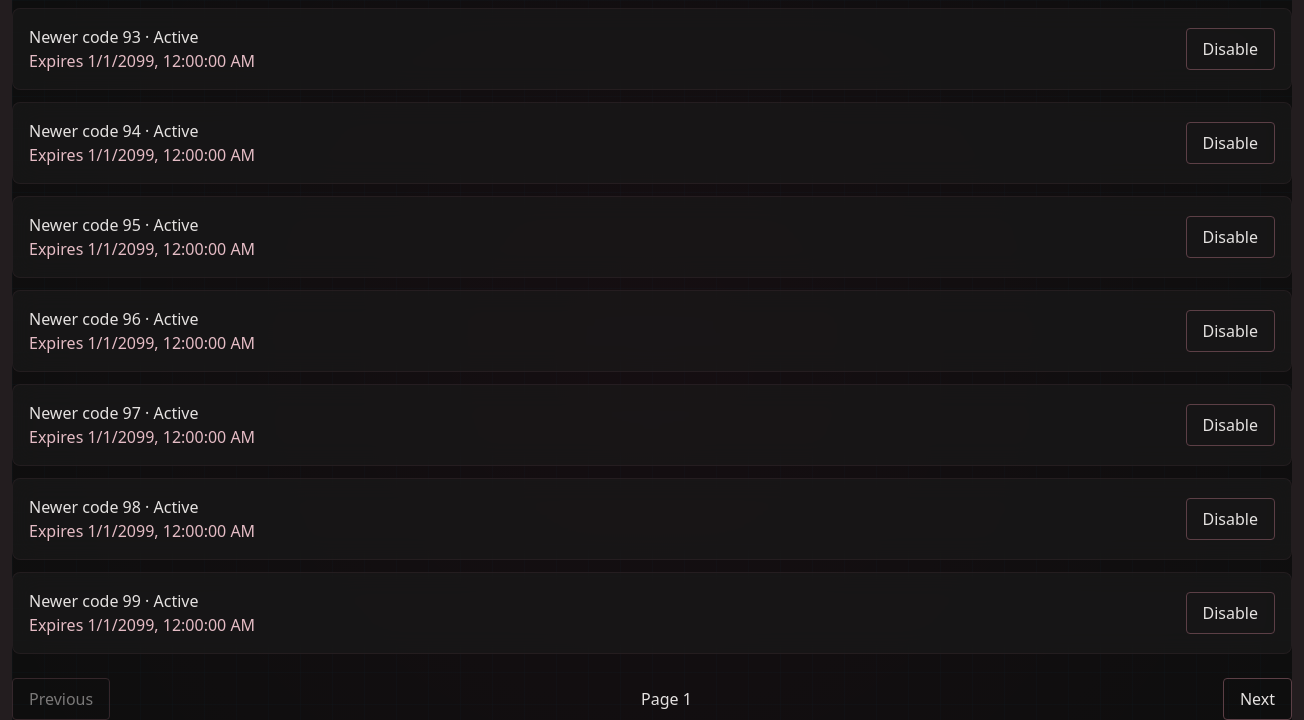
admin signup code pagination › preserves an issued code after creation on a later page (reload fails: true)
(page scrolled)
Click the button "Next" at x=1257, y=699, box [1223,678,1292,719]
(page scrolled)
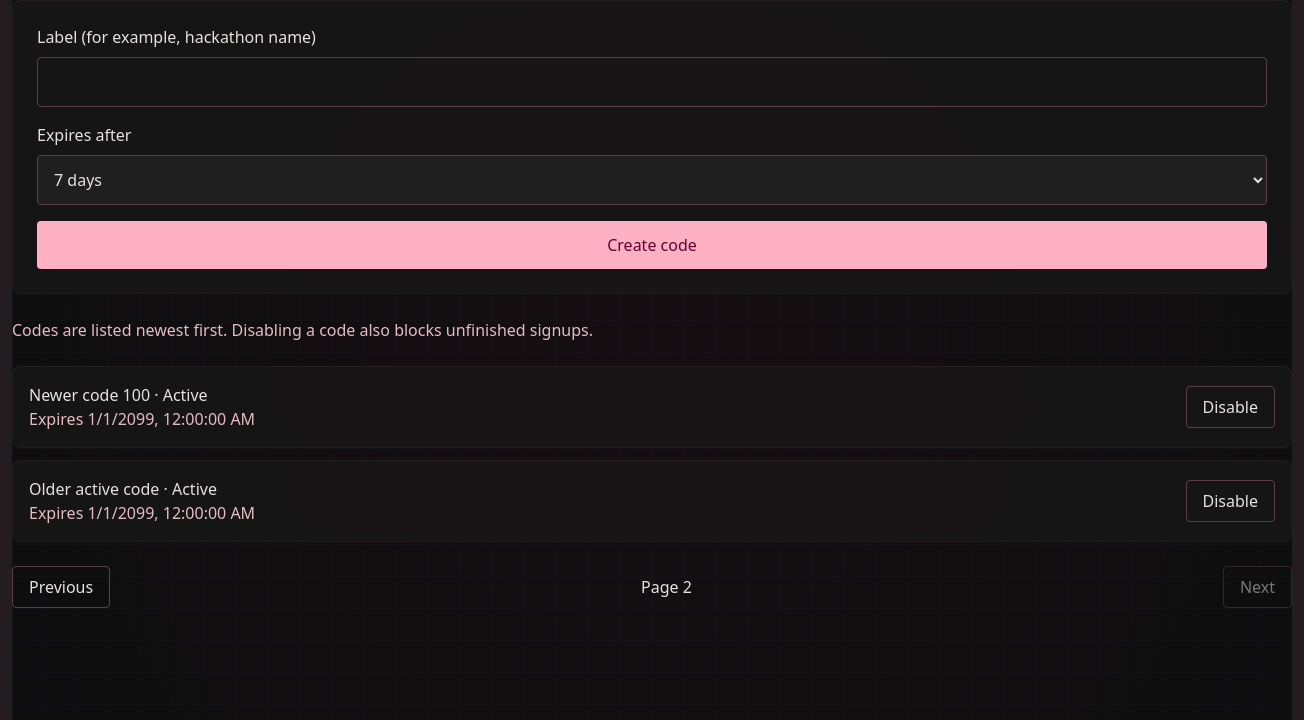
Result: the text "Page 2" is shown at [641,575,692,599]
Type "New event" into the field at x=652, y=82, box [37,57,1267,107]
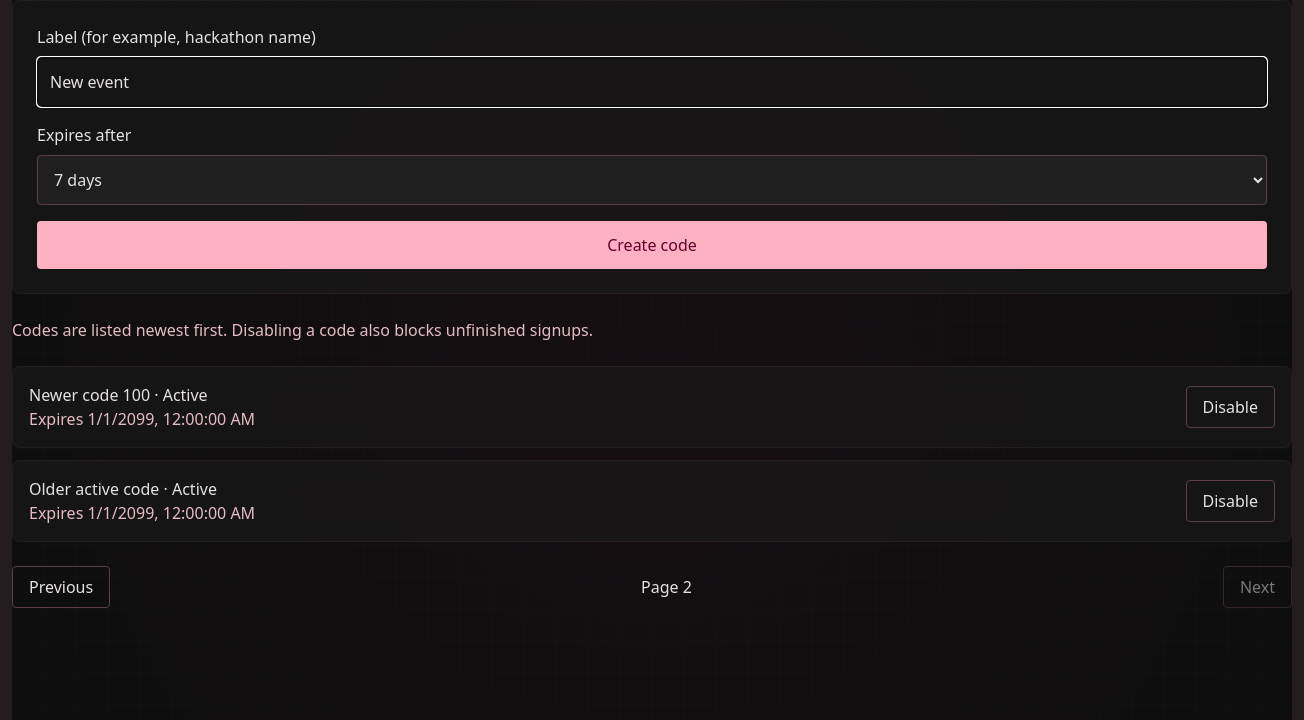
Click the button "Create code" at x=652, y=245, box [37,221,1267,269]
(page scrolled)
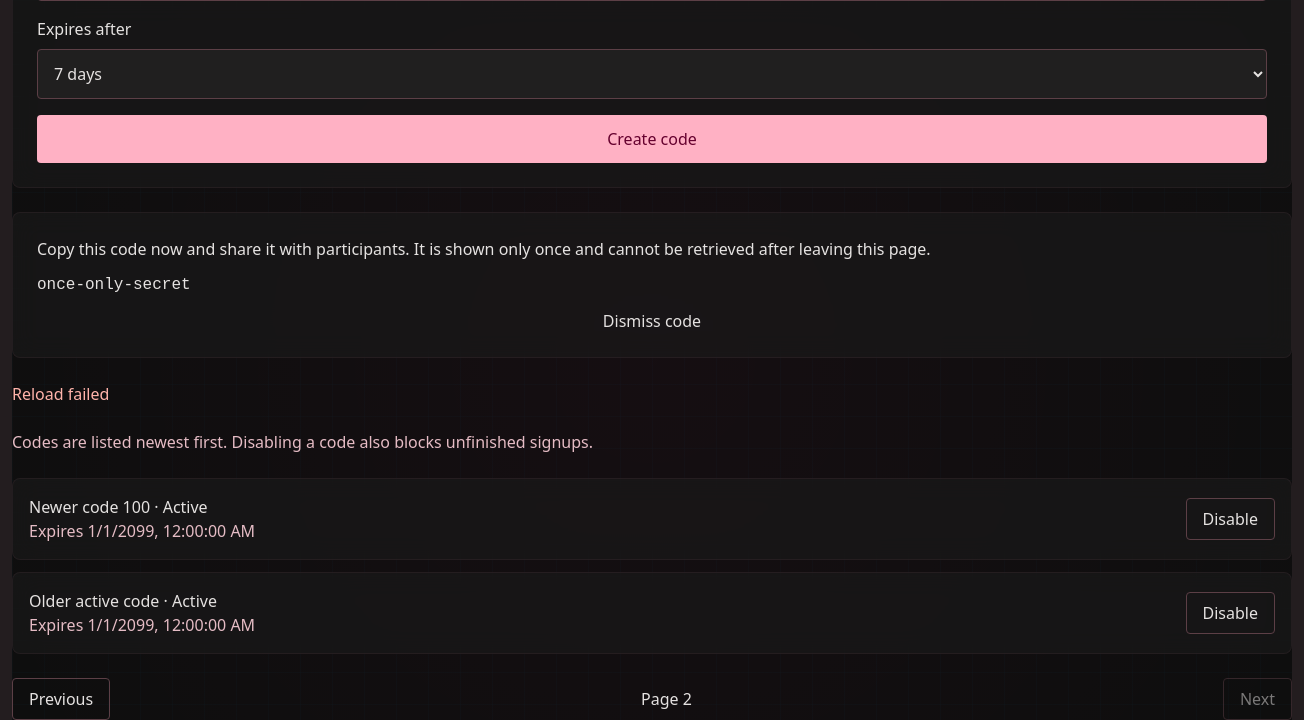
Result: the text "Older active code · Active" is shown at [29,590,217,612]
Result: the text "once-only-secret" is shown at [37,276,191,294]
Result: the message "Reload failed" is shown at [12,383,109,405]
